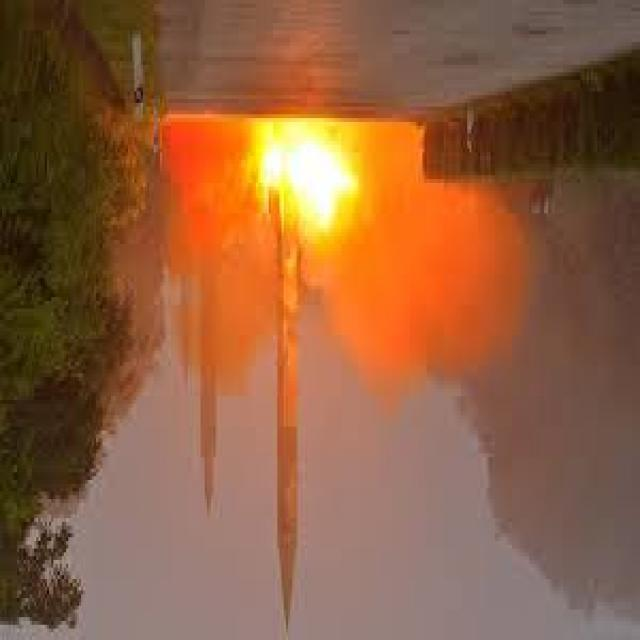missile: (264, 193, 305, 631)
